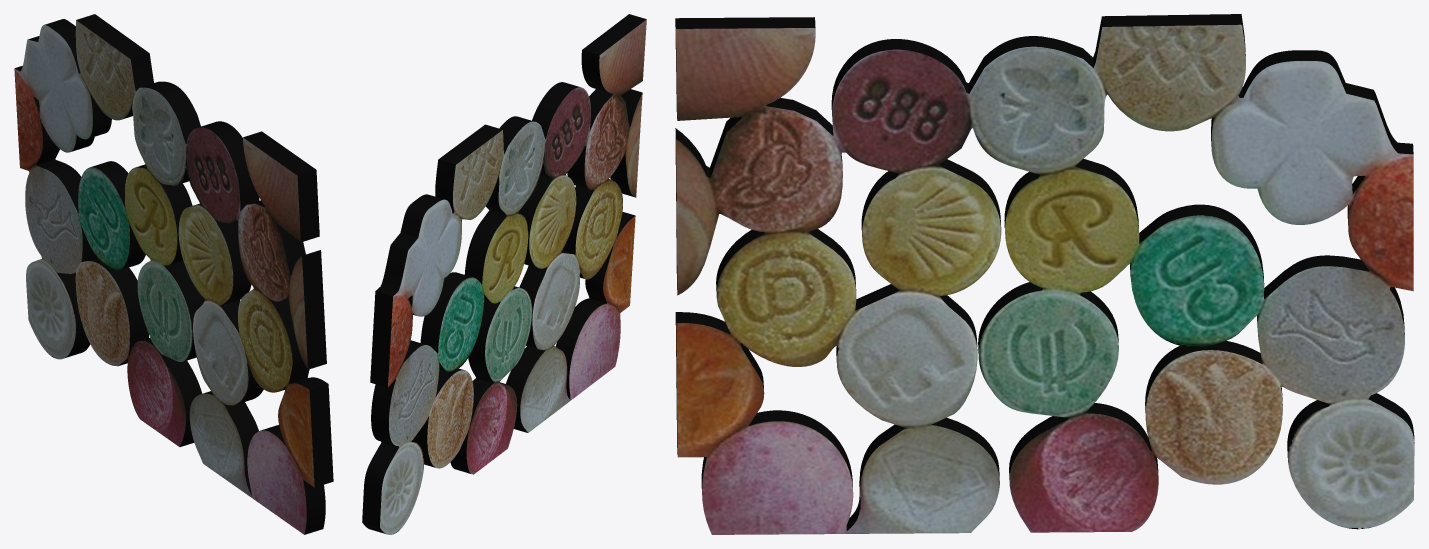
File: ekstasi.gltf
3 renders of one model, left to right at view 1: azimuth 30°, elevation 25°; view 2: azimuth 150°, elevation 25°; view 3: azimuth 270°, elevation 25°, orthographic. The views are drawn at different scales.
Visible parts, largest first — view 1: ekstasi; view 2: ekstasi; view 3: ekstasi.
Part boxes in pixels (x1,y1,x2,y2): ekstasi: [14, 14, 333, 534]; ekstasi: [362, 14, 646, 534]; ekstasi: [675, 14, 1414, 534].
Bounding box in the file's own units: 0.7208 × 5.59 × 7.58.
Materials: 3 (3 with a texture image).
